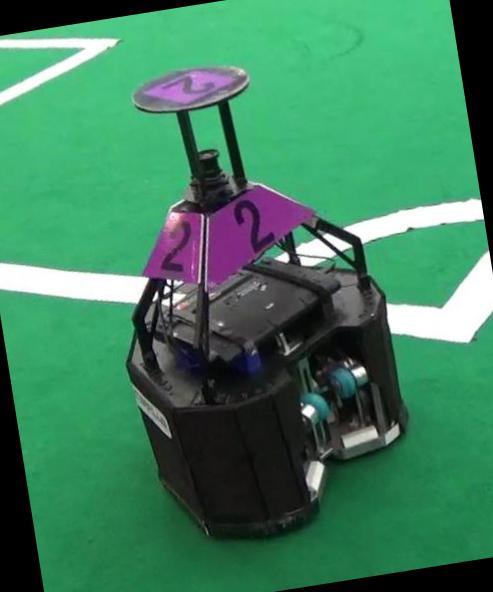blue_shirt: (132, 66, 248, 112)
robot: (126, 66, 406, 536)
